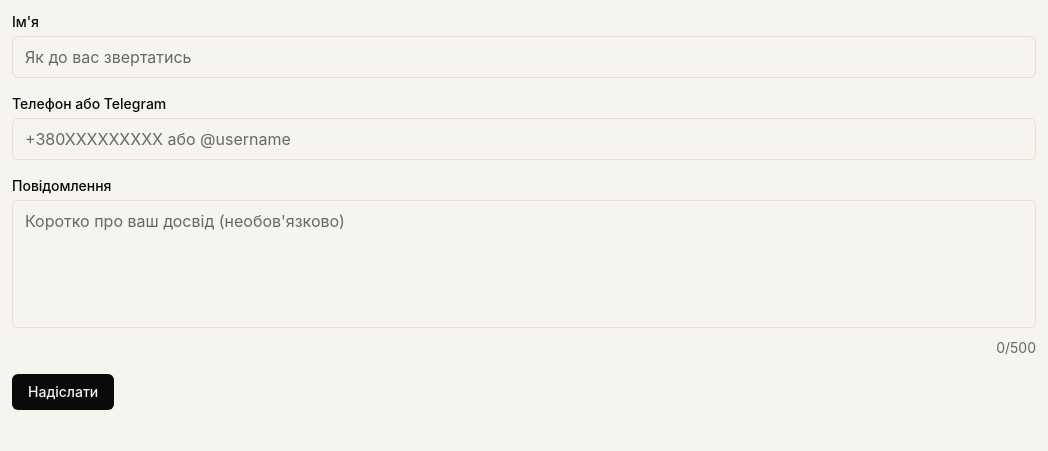
ApplicationForm › clears a stale field error as soon as the user types, before the next blur
This screenshot has width=1048, height=451.
Click the field labelled "Ім'я" at (524, 57), box [12,36,1036,78]
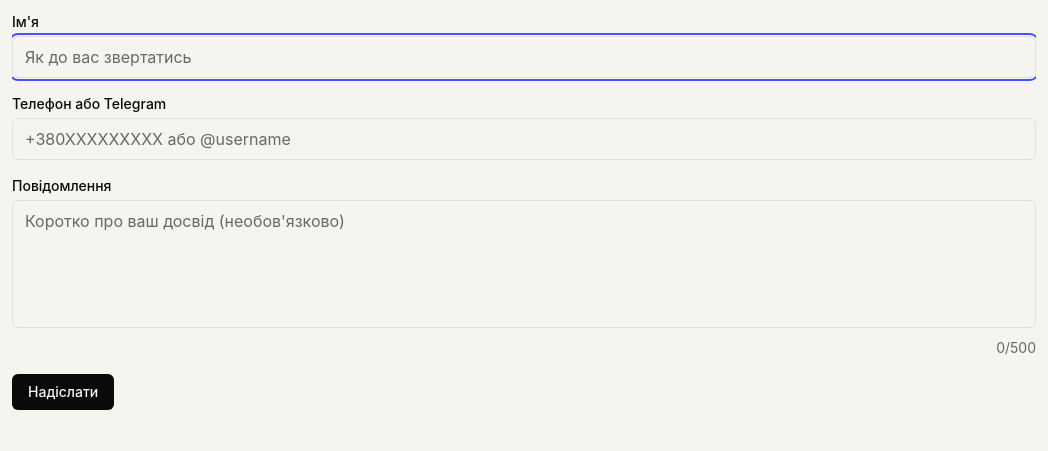
Press Tab
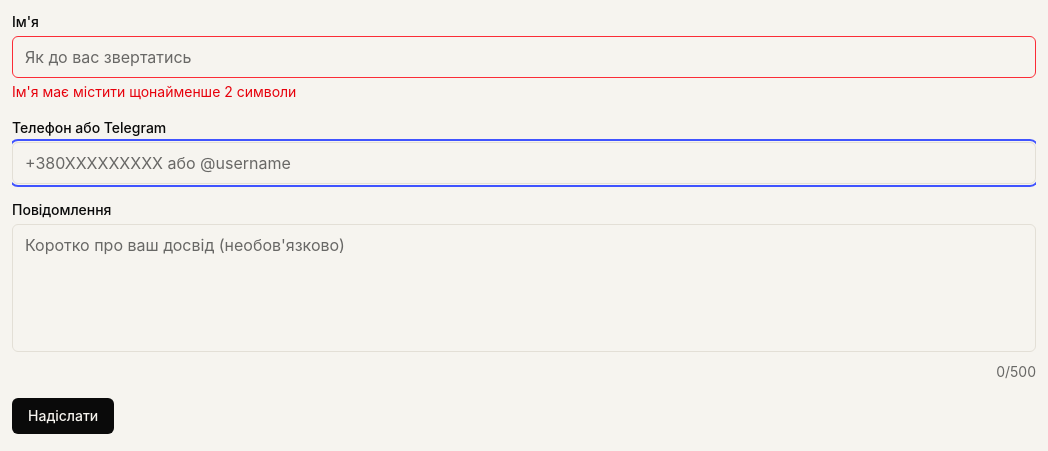
Check: the text "Ім'я має містити щонайменше 2 символи" is shown, box [12,82,296,102]
Type "І" into the field labelled "Ім'я" at (524, 57), box [12,36,1036,78]
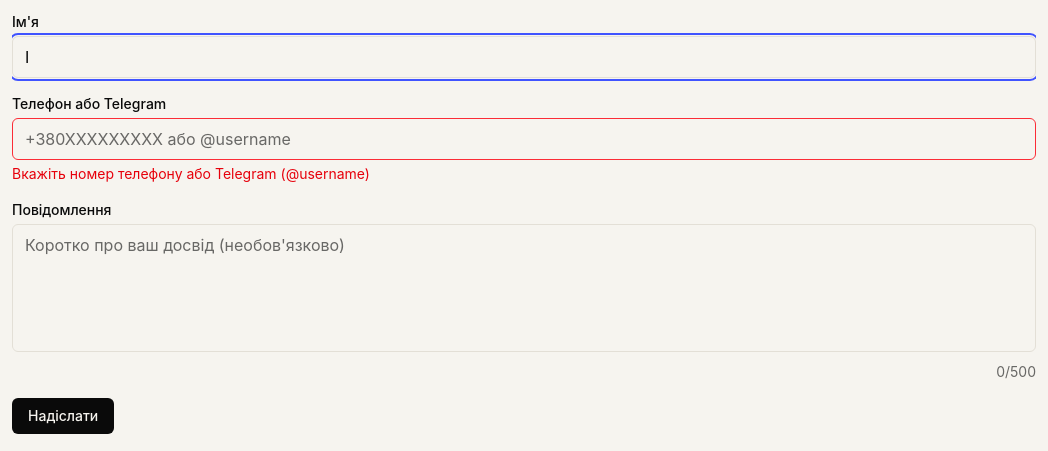
Check: the text "Ім'я має містити щонайменше 2 символи" is gone
